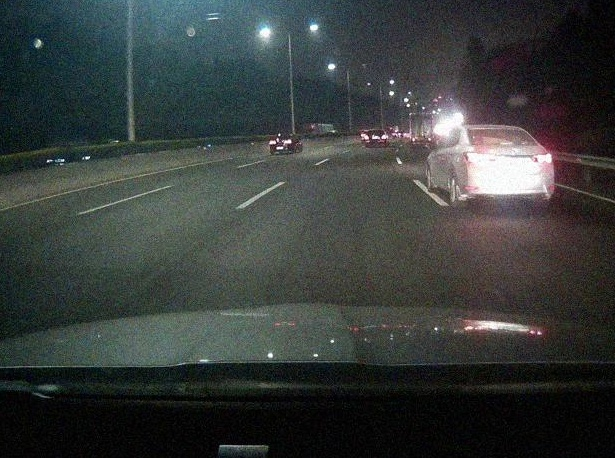L_light: (465, 151, 495, 163)
R_light: (530, 153, 553, 163)
T_light: (500, 141, 512, 146)
night-no: (462, 125, 555, 208)
